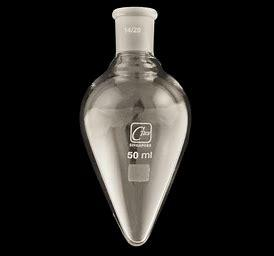Pear shaped flask: (72, 8, 196, 250)
